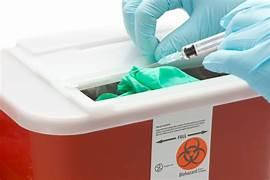Glove: (123, 0, 243, 59), (203, 0, 269, 100)
Syringe: (158, 32, 224, 64)
